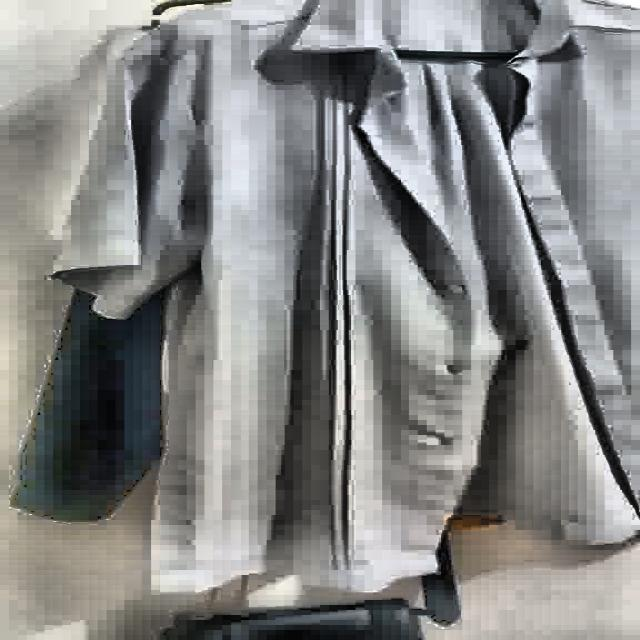clothes: (40, 0, 630, 618)
